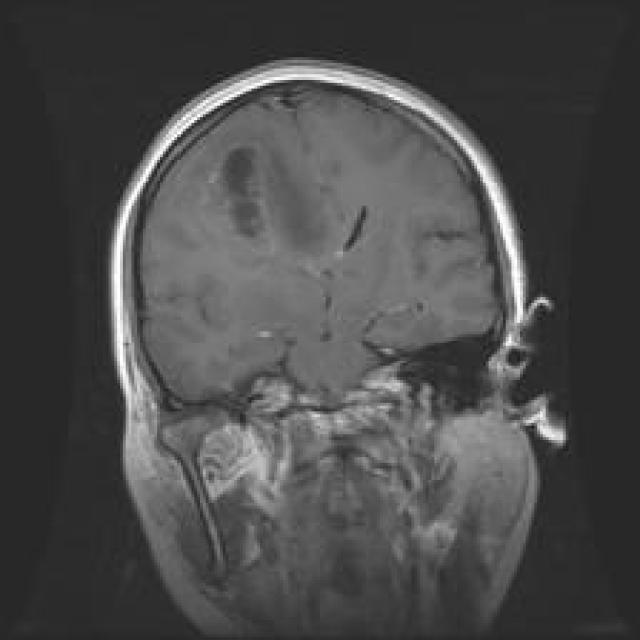glioma_tumor: (214, 123, 346, 278)
